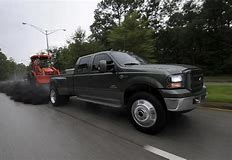smoke: (1, 79, 51, 105)
